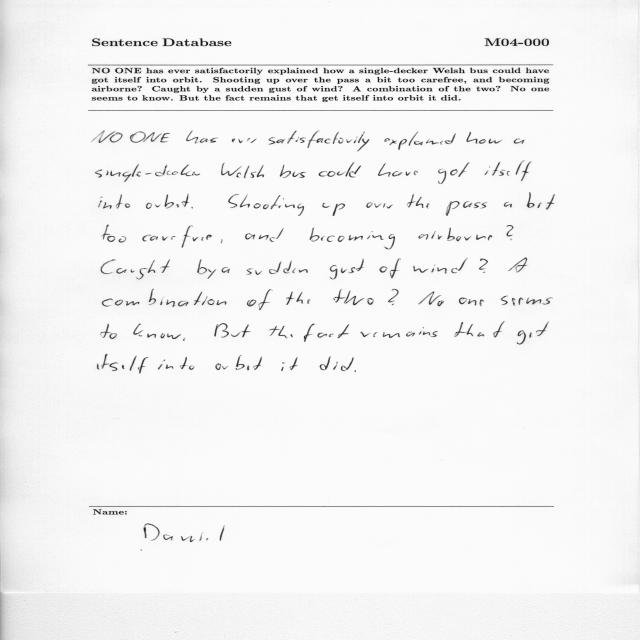word: (103, 289, 227, 307), (438, 161, 532, 184), (269, 131, 370, 152), (95, 164, 200, 182), (310, 228, 395, 249), (228, 194, 304, 216), (142, 226, 212, 248), (101, 260, 170, 280), (384, 131, 456, 150), (419, 228, 492, 242), (98, 354, 149, 373), (247, 261, 308, 275), (361, 327, 438, 338), (413, 258, 468, 273), (454, 322, 505, 338), (304, 324, 349, 342), (517, 322, 549, 345), (133, 324, 181, 339), (216, 355, 263, 370), (330, 259, 364, 279), (333, 289, 374, 305), (221, 163, 264, 178), (318, 163, 361, 178), (446, 201, 488, 216), (378, 163, 418, 177), (214, 323, 251, 338), (245, 228, 284, 242), (247, 289, 273, 310), (501, 296, 553, 306), (320, 356, 354, 371), (130, 131, 170, 143), (527, 193, 555, 210), (158, 357, 194, 370), (99, 194, 130, 209), (379, 258, 401, 278), (466, 132, 502, 144), (103, 225, 126, 242), (418, 292, 444, 307), (186, 131, 218, 143), (197, 259, 216, 279), (164, 194, 189, 209), (92, 131, 123, 143), (280, 165, 306, 178), (407, 194, 429, 209), (286, 292, 311, 305), (322, 203, 345, 216), (270, 326, 293, 338), (508, 258, 527, 272), (101, 324, 117, 339), (281, 357, 298, 371), (459, 298, 484, 307), (388, 289, 399, 305), (366, 203, 393, 209), (479, 259, 488, 273), (232, 138, 257, 143), (507, 225, 514, 240), (146, 203, 160, 209), (514, 139, 525, 144), (221, 267, 230, 273), (504, 202, 512, 207), (221, 240, 223, 244), (183, 338, 185, 341), (191, 207, 193, 209), (354, 370, 356, 372)
